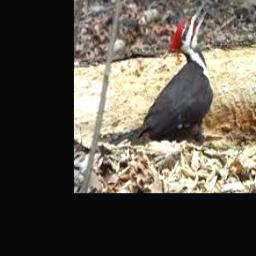Woodpecker: (109, 2, 214, 145)
